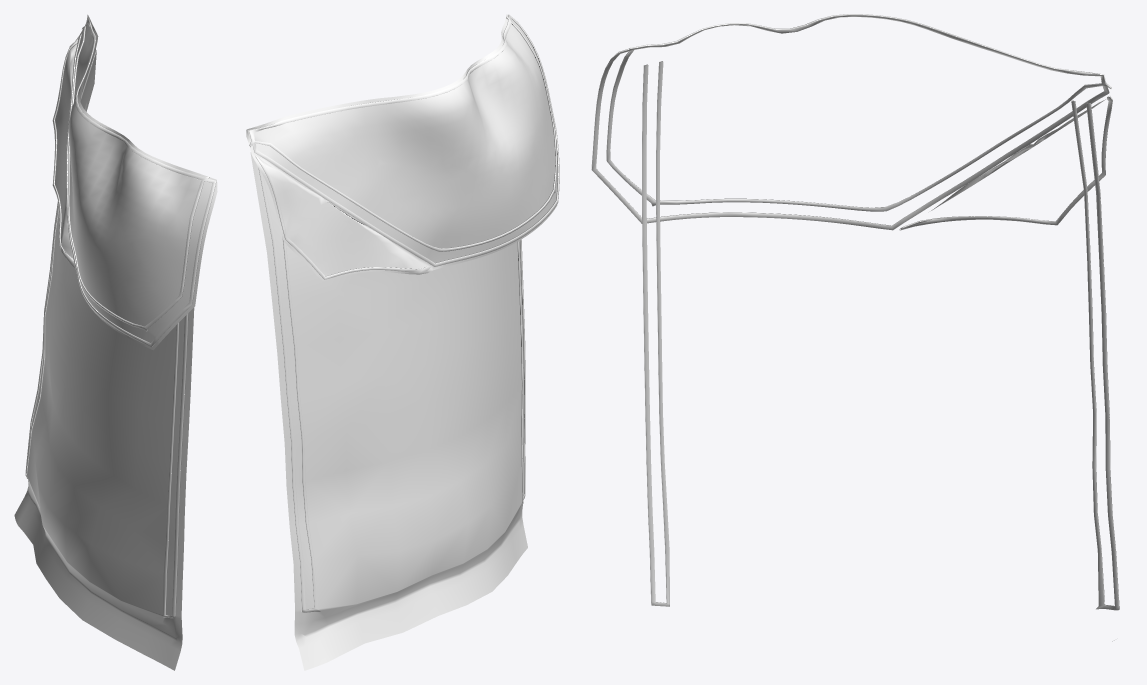
The model's file is Pants_Pocket_Left_V2.glb.
The picture shows the model from 3 angles, left to right: view 1: azimuth 30°, elevation 25°; view 2: azimuth 150°, elevation 25°; view 3: azimuth 270°, elevation 25°; orthographic projection. The views are drawn at different scales.
Parts seen in each view (by area): view 1: Pants_Pocket_Left.003, Pants_Rope_Pocket_Left.003; view 2: Pants_Pocket_Left.003, Pants_Rope_Pocket_Left.003; view 3: Pants_Rope_Pocket_Left.003.
Boxes of the visible parts, x1=… form: Pants_Pocket_Left.003: x1=14, y1=14, x2=217, y2=670; Pants_Rope_Pocket_Left.003: x1=25, y1=18, x2=216, y2=618; Pants_Pocket_Left.003: x1=246, y1=14, x2=557, y2=670; Pants_Rope_Pocket_Left.003: x1=249, y1=14, x2=559, y2=612; Pants_Rope_Pocket_Left.003: x1=591, y1=14, x2=1119, y2=610.
Size of the model in its own units: 0.0779 by 0.297 by 0.2233.
Materials: 2 (2 with a texture image).
